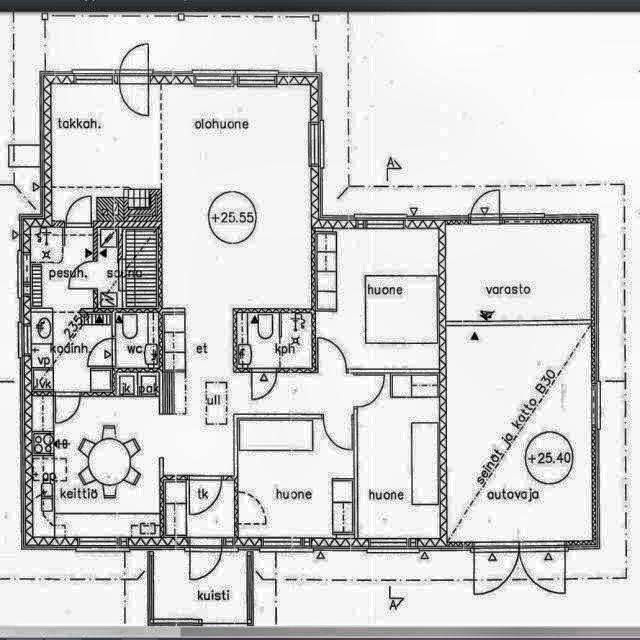room: (445, 324, 593, 542), (314, 227, 439, 373), (443, 222, 594, 322), (237, 418, 354, 539), (357, 374, 439, 539), (237, 314, 312, 371), (164, 480, 235, 538), (115, 312, 159, 368)
